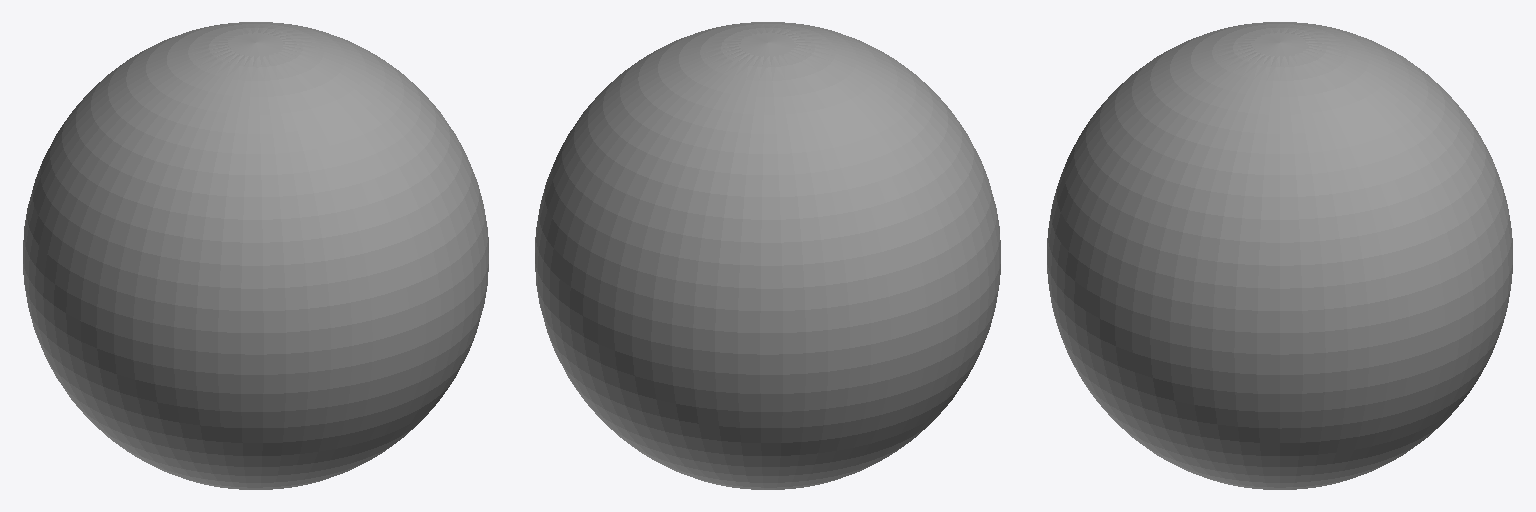
File: kule.obj
3 views of the same model, side by side, from view 1: azimuth 30°, elevation 25°; view 2: azimuth 150°, elevation 25°; view 3: azimuth 270°, elevation 25° (orthographic).
Visible parts, largest first — view 1: Sphere; view 2: Sphere; view 3: Sphere.
Part boxes in pixels (x1,y1,x2,y2): Sphere: (23,22,488,489); Sphere: (535,22,1000,489); Sphere: (1047,22,1512,489).
Bounding box in the file's own units: 1.98 × 2 × 1.98.